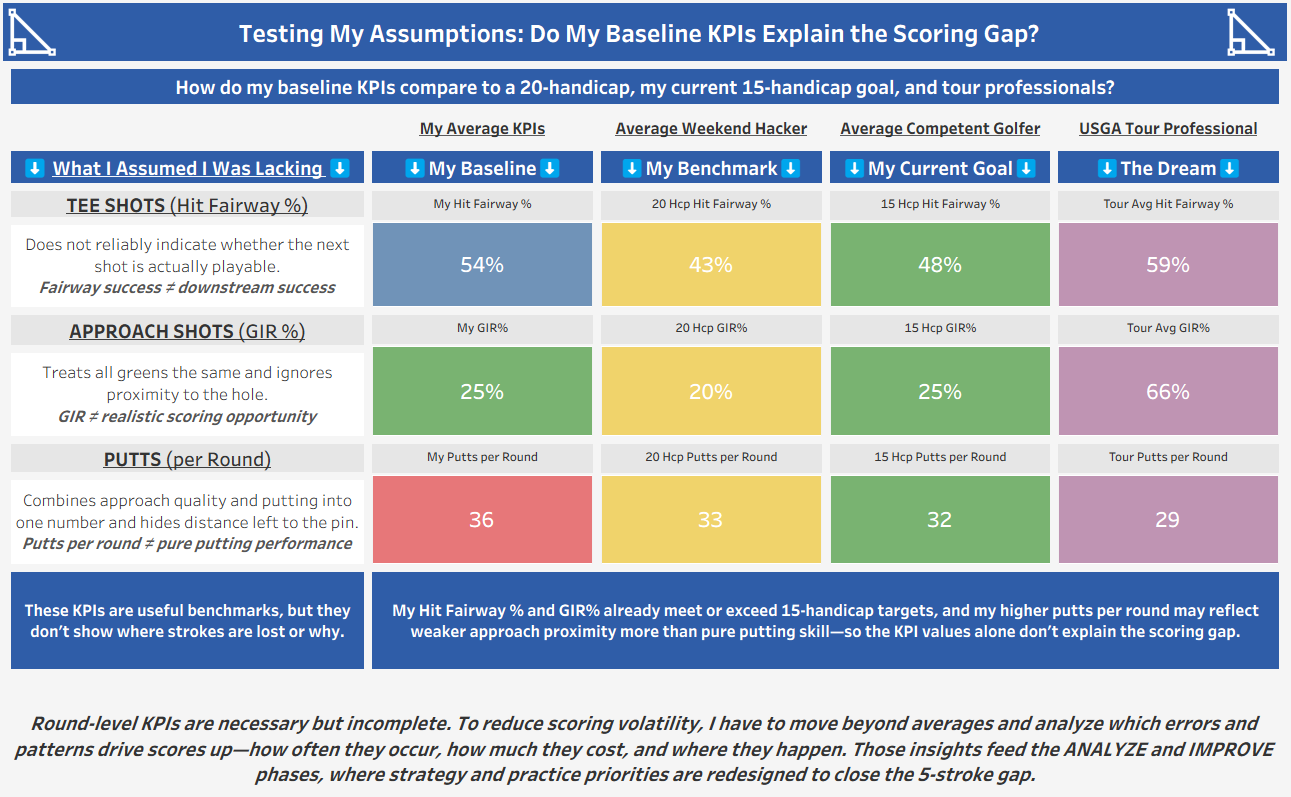

Layout of this report page (visuals, bound fields, positions):
{"tool":"tableau","page":{"name":"4. MEASURE Test Assumptons","canvas":[1300,850],"ordinal":4},"visuals":[{"type":"image","param":"C:/Users/micha/OneDrive/Documents/NewForce/golf-capstone/data/reference/MEASURE.","box":[8,8,59,58]},{"type":"title","box":[67,8,1154,58]},{"type":"image","param":"C:/Users/micha/OneDrive/Documents/NewForce/golf-capstone/data/reference/MEASURE.","box":[1221,8,71,58]},{"type":"text","box":[12,70,1276,43]},{"type":"blank","box":[12,113,360.7,38.8]},{"type":"text","box":[372.7,113,229.1,38.8]},{"type":"text","box":[601.8,113,229.1,38.8]},{"type":"text","box":[830.8,113,228.6,38.8]},{"type":"text","box":[1059.4,113,228.6,38.8]},{"type":"text","box":[12,151.8,361,39.7]},{"type":"text","box":[373,151.8,228.7,39.8]},{"type":"text","box":[601.8,151.8,228.7,39.8]},{"type":"text","box":[830.5,151.8,228.7,39.8]},{"type":"text","box":[1059.3,151.8,228.7,39.8]},{"type":"text","box":[12,191.6,361,34.4]},{"type":"worksheet","title":"My Hit Fairway %","mark":"GanttBar","box":[373,191.6,228.7,124.4]},{"type":"worksheet","title":"20 Hcp Hit Fairway %","mark":"GanttBar","box":[601.8,191.6,228.7,124.4]},{"type":"worksheet","title":"15 Hcp Hit Fairway %","mark":"GanttBar","box":[830.5,191.6,228.8,124.4]},{"type":"worksheet","title":"Tour Avg Hit Fairway %","mark":"GanttBar","box":[1059.3,191.6,228.7,124.4]},{"type":"text","box":[12,226,361,90]},{"type":"text","box":[12,316,361,38]},{"type":"worksheet","title":"My GIR%","mark":"GanttBar","box":[373,316,228.7,129]},{"type":"worksheet","title":"20 Hcp GIR%","mark":"GanttBar","box":[601.8,316,228.7,128.9]},{"type":"worksheet","title":"15 Hcp GIR%","mark":"GanttBar","box":[830.5,316,228.7,128.9]},{"type":"worksheet","title":"Tour Avg GIR%","mark":"GanttBar","box":[1059.3,316,228.7,128.9]},{"type":"text","box":[12,354,361,91]},{"type":"worksheet","title":"20 Hcp Putts per Round","mark":"GanttBar","box":[601.8,444.9,228.7,128.1]},{"type":"worksheet","title":"15 Hcp Putts per Round","mark":"GanttBar","box":[830.5,444.9,228.7,128.1]},{"type":"worksheet","title":"Tour Putts per Round","mark":"GanttBar","box":[1059.3,444.9,228.7,128.1]},{"type":"text","box":[12,445,361,36]},{"type":"worksheet","title":"My Putts per Round","mark":"GanttBar","box":[373,445,228.7,128]},{"type":"text","box":[12,481,361,92]},{"type":"text","box":[12,573,361.2,105]},{"type":"text","box":[373.2,573,914.8,105]},{"type":"text","box":[12,678,1276,151]}]}

Visuals, with their boxes on the page's 1300x850 design canvas (x1, y1, x2, y2). These are canvas units, not pixel positions in the 1291x797 screenshot, which may show the page scaled, cropped or inside an application window:
image: detection(8, 8, 67, 66)
title: detection(67, 8, 1221, 66)
image: detection(1221, 8, 1292, 66)
text: detection(12, 70, 1288, 113)
blank: detection(12, 113, 373, 152)
text: detection(373, 113, 602, 152)
text: detection(602, 113, 831, 152)
text: detection(831, 113, 1059, 152)
text: detection(1059, 113, 1288, 152)
text: detection(12, 152, 373, 192)
text: detection(373, 152, 602, 192)
text: detection(602, 152, 830, 192)
text: detection(830, 152, 1059, 192)
text: detection(1059, 152, 1288, 192)
text: detection(12, 192, 373, 226)
"My Hit Fairway %" worksheet (GanttBar marks): detection(373, 192, 602, 316)
"20 Hcp Hit Fairway %" worksheet (GanttBar marks): detection(602, 192, 830, 316)
"15 Hcp Hit Fairway %" worksheet (GanttBar marks): detection(830, 192, 1059, 316)
"Tour Avg Hit Fairway %" worksheet (GanttBar marks): detection(1059, 192, 1288, 316)
text: detection(12, 226, 373, 316)
text: detection(12, 316, 373, 354)
"My GIR%" worksheet (GanttBar marks): detection(373, 316, 602, 445)
"20 Hcp GIR%" worksheet (GanttBar marks): detection(602, 316, 830, 445)
"15 Hcp GIR%" worksheet (GanttBar marks): detection(830, 316, 1059, 445)
"Tour Avg GIR%" worksheet (GanttBar marks): detection(1059, 316, 1288, 445)
text: detection(12, 354, 373, 445)
"20 Hcp Putts per Round" worksheet (GanttBar marks): detection(602, 445, 830, 573)
"15 Hcp Putts per Round" worksheet (GanttBar marks): detection(830, 445, 1059, 573)
"Tour Putts per Round" worksheet (GanttBar marks): detection(1059, 445, 1288, 573)
text: detection(12, 445, 373, 481)
"My Putts per Round" worksheet (GanttBar marks): detection(373, 445, 602, 573)
text: detection(12, 481, 373, 573)
text: detection(12, 573, 373, 678)
text: detection(373, 573, 1288, 678)
text: detection(12, 678, 1288, 829)
